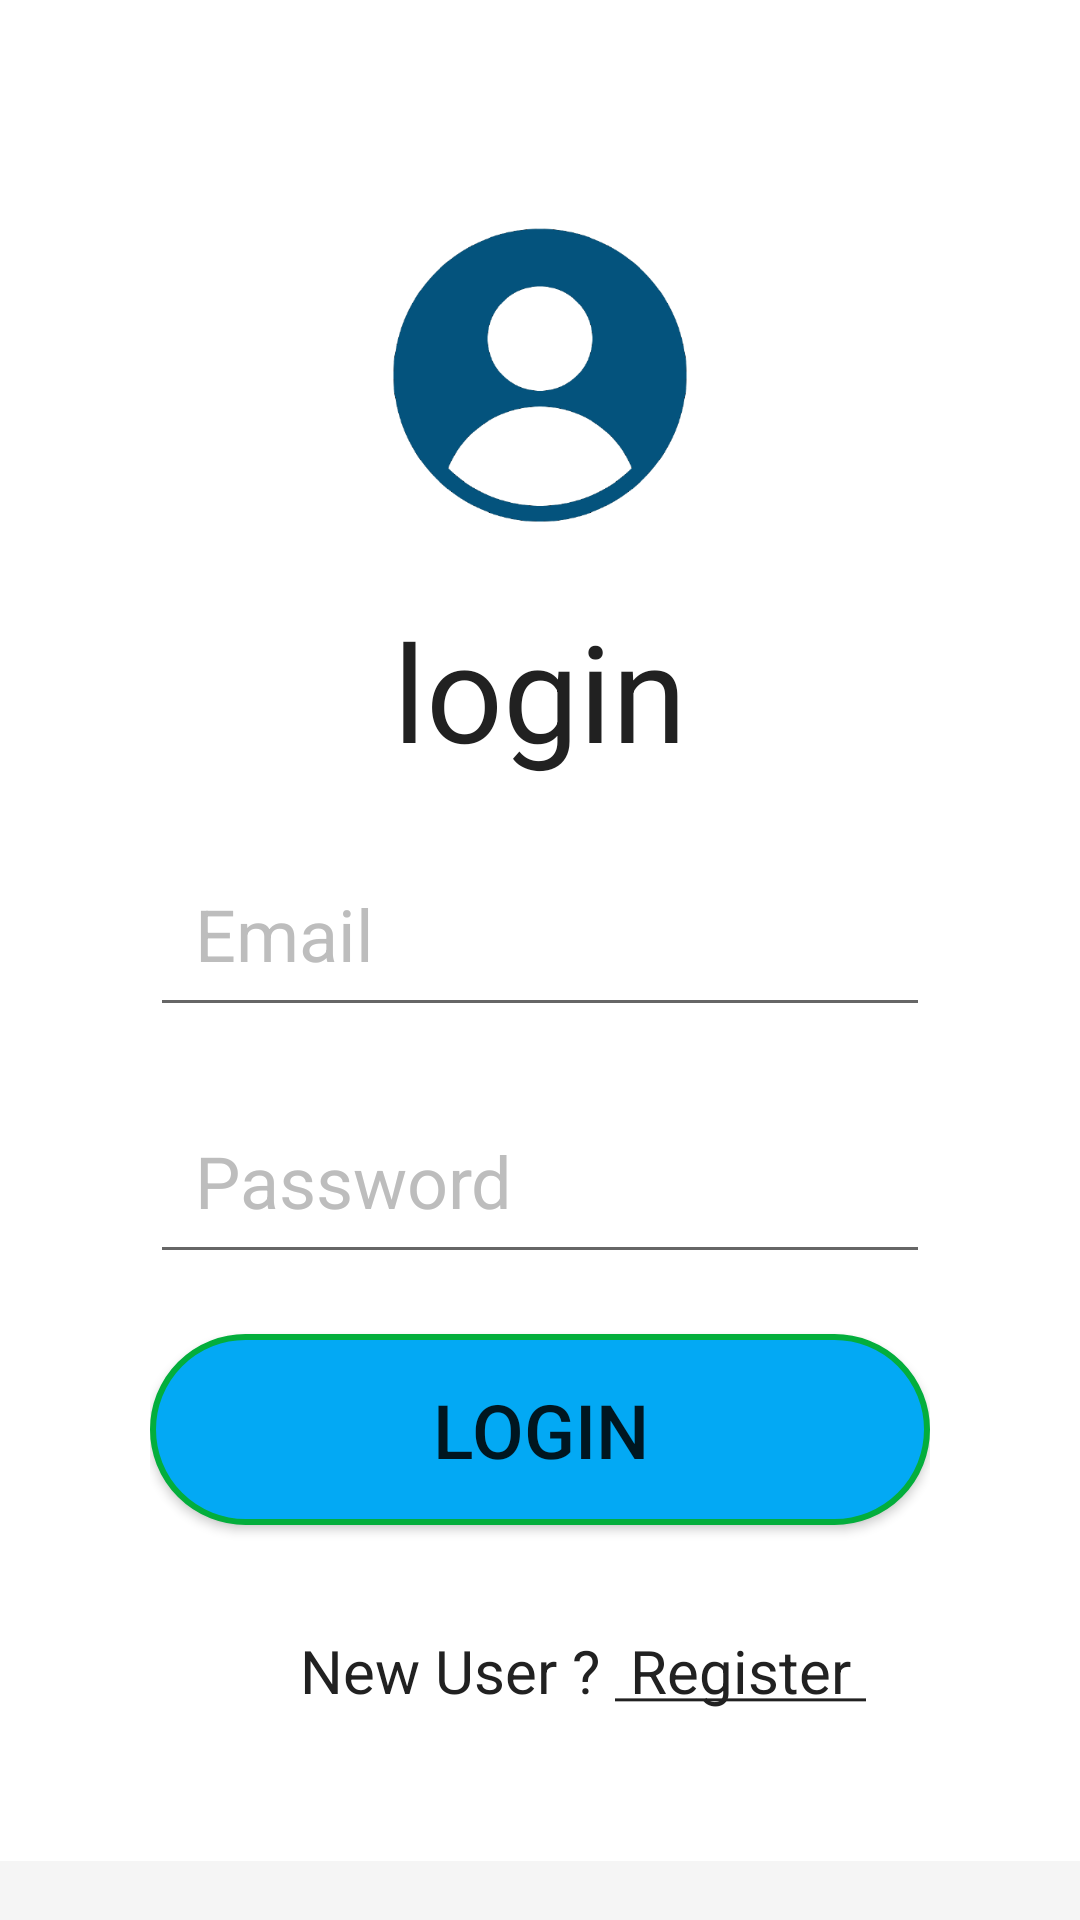

Screen size 1080w x 1920h. Icon name, then its center in pixels as (x=x, y=y):
usericon: (x=540, y=375)
